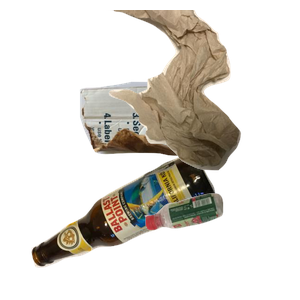cardboard: (77, 79, 251, 227)
glass: (29, 150, 238, 300)
plastic: (142, 191, 300, 300)
trash: (103, 10, 300, 173)
